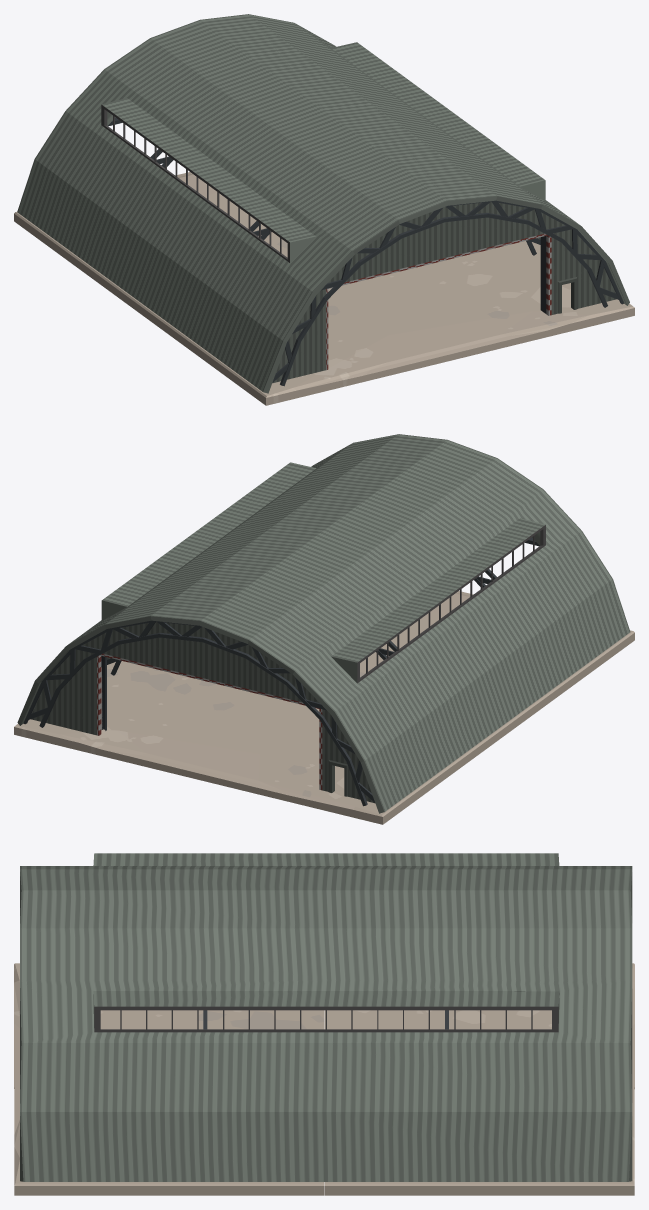
Rendered from SM_Bld_Hangar_01.fbx.
3 views of the same model, one above another, from view 1: azimuth 30°, elevation 25°; view 2: azimuth 150°, elevation 25°; view 3: azimuth 270°, elevation 25° (orthographic). The views are drawn at different scales.
Parts seen in each view (by area): view 1: SM_Bld_Hangar_01; view 2: SM_Bld_Hangar_01; view 3: SM_Bld_Hangar_01.
Part boxes in pixels (x1,y1,x2,y2): SM_Bld_Hangar_01: (14,14,634,405); SM_Bld_Hangar_01: (14,434,634,824); SM_Bld_Hangar_01: (14,853,634,1195).
Size of the model in its own units: 3063 by 1252 by 3626.
